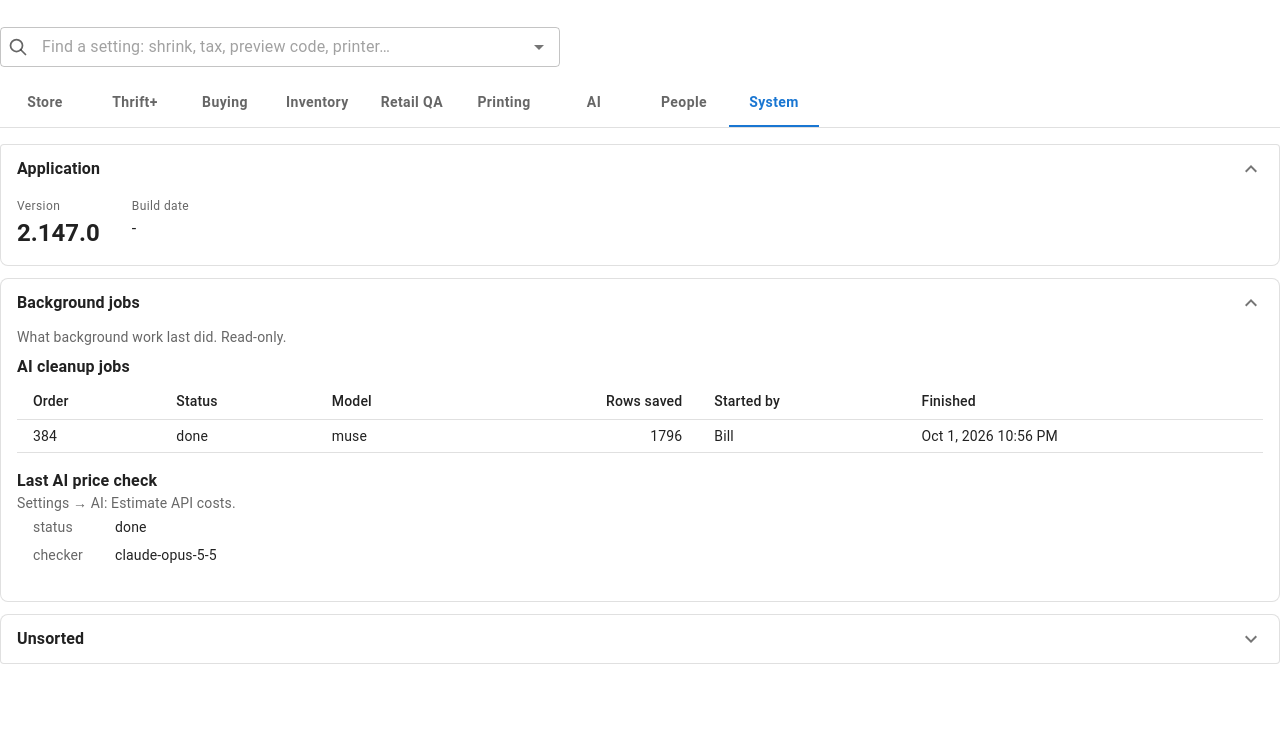
Test: SettingsPage (owner, 2026-10-07) › shows job state as tables on System, never raw JSON, and unknown keys under Unsorted
The width and height of the screenshot is (1280, 729).
Expected: the text "AI cleanup jobs" is shown, [17, 357, 130, 376]
Expected: the text "384" is shown, [17, 419, 160, 452]
Step 1. Click the button "Unsorted" → [51, 638], box [1, 615, 1279, 663]
(page scrolled)
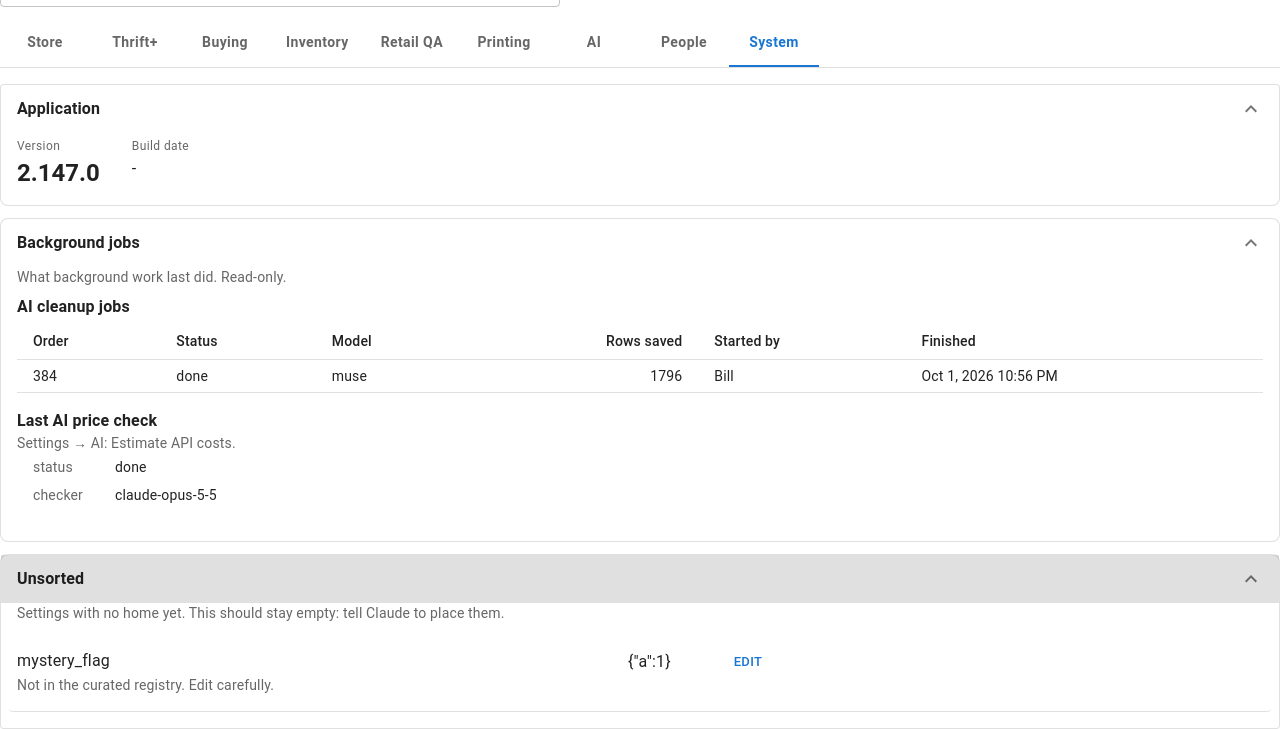
Expected: the heading "mystery_flag" is shown, [17, 651, 110, 670]
